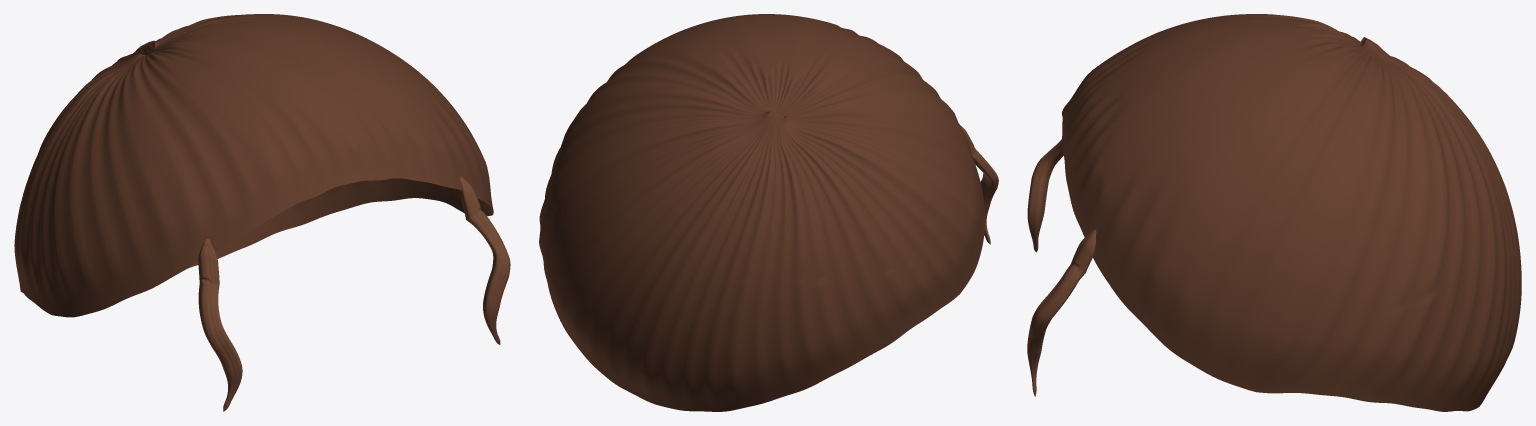
The model's file is ponytail-beanie-fringe-default.glb.
3 views of the same model, side by side, from view 1: azimuth 30°, elevation 25°; view 2: azimuth 150°, elevation 25°; view 3: azimuth 270°, elevation 25° (orthographic). The views are drawn at different scales.
Visible parts, largest first — view 1: 226 hair / Hair / crisp pulled roots220.002, 226 hair / Hair / sculpted front locks222.002; view 2: 226 hair / Hair / crisp pulled roots220.002, 226 hair / Hair / sculpted front locks222.002; view 3: 226 hair / Hair / crisp pulled roots220.002, 226 hair / Hair / sculpted front locks222.002.
Part boxes in pixels (x1,y1,x2,y2): 226 hair / Hair / crisp pulled roots220.002: (14, 14, 493, 317); 226 hair / Hair / sculpted front locks222.002: (198, 176, 510, 411); 226 hair / Hair / crisp pulled roots220.002: (539, 14, 984, 411); 226 hair / Hair / sculpted front locks222.002: (959, 124, 998, 244); 226 hair / Hair / crisp pulled roots220.002: (1061, 14, 1521, 411); 226 hair / Hair / sculpted front locks222.002: (1027, 139, 1096, 396).
Bounding box in the file's own units: 0.7726 × 0.5697 × 0.7364.
